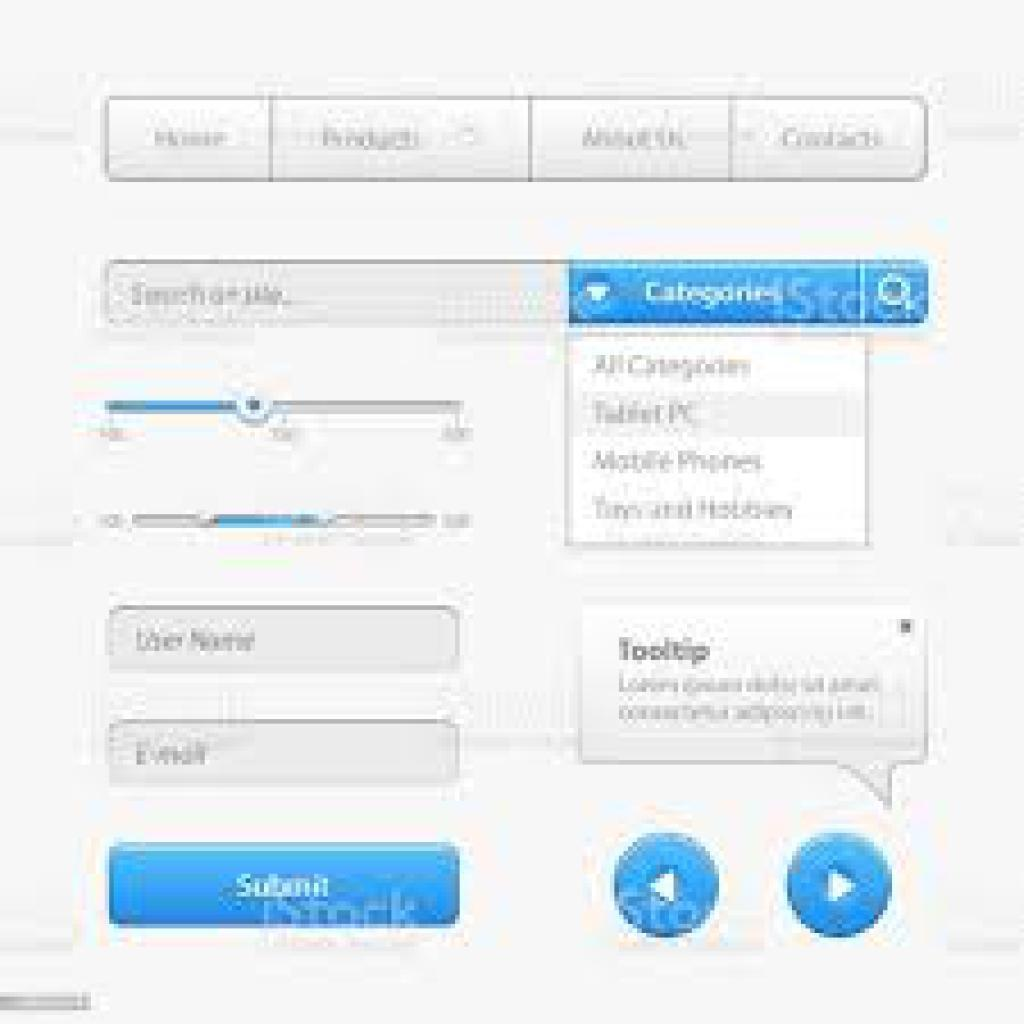button: (111, 848, 461, 931)
dropdown: (571, 262, 862, 327)
input: (108, 261, 571, 322), (109, 717, 455, 786), (102, 610, 465, 672)
slider: (102, 386, 474, 434), (132, 496, 444, 540)
